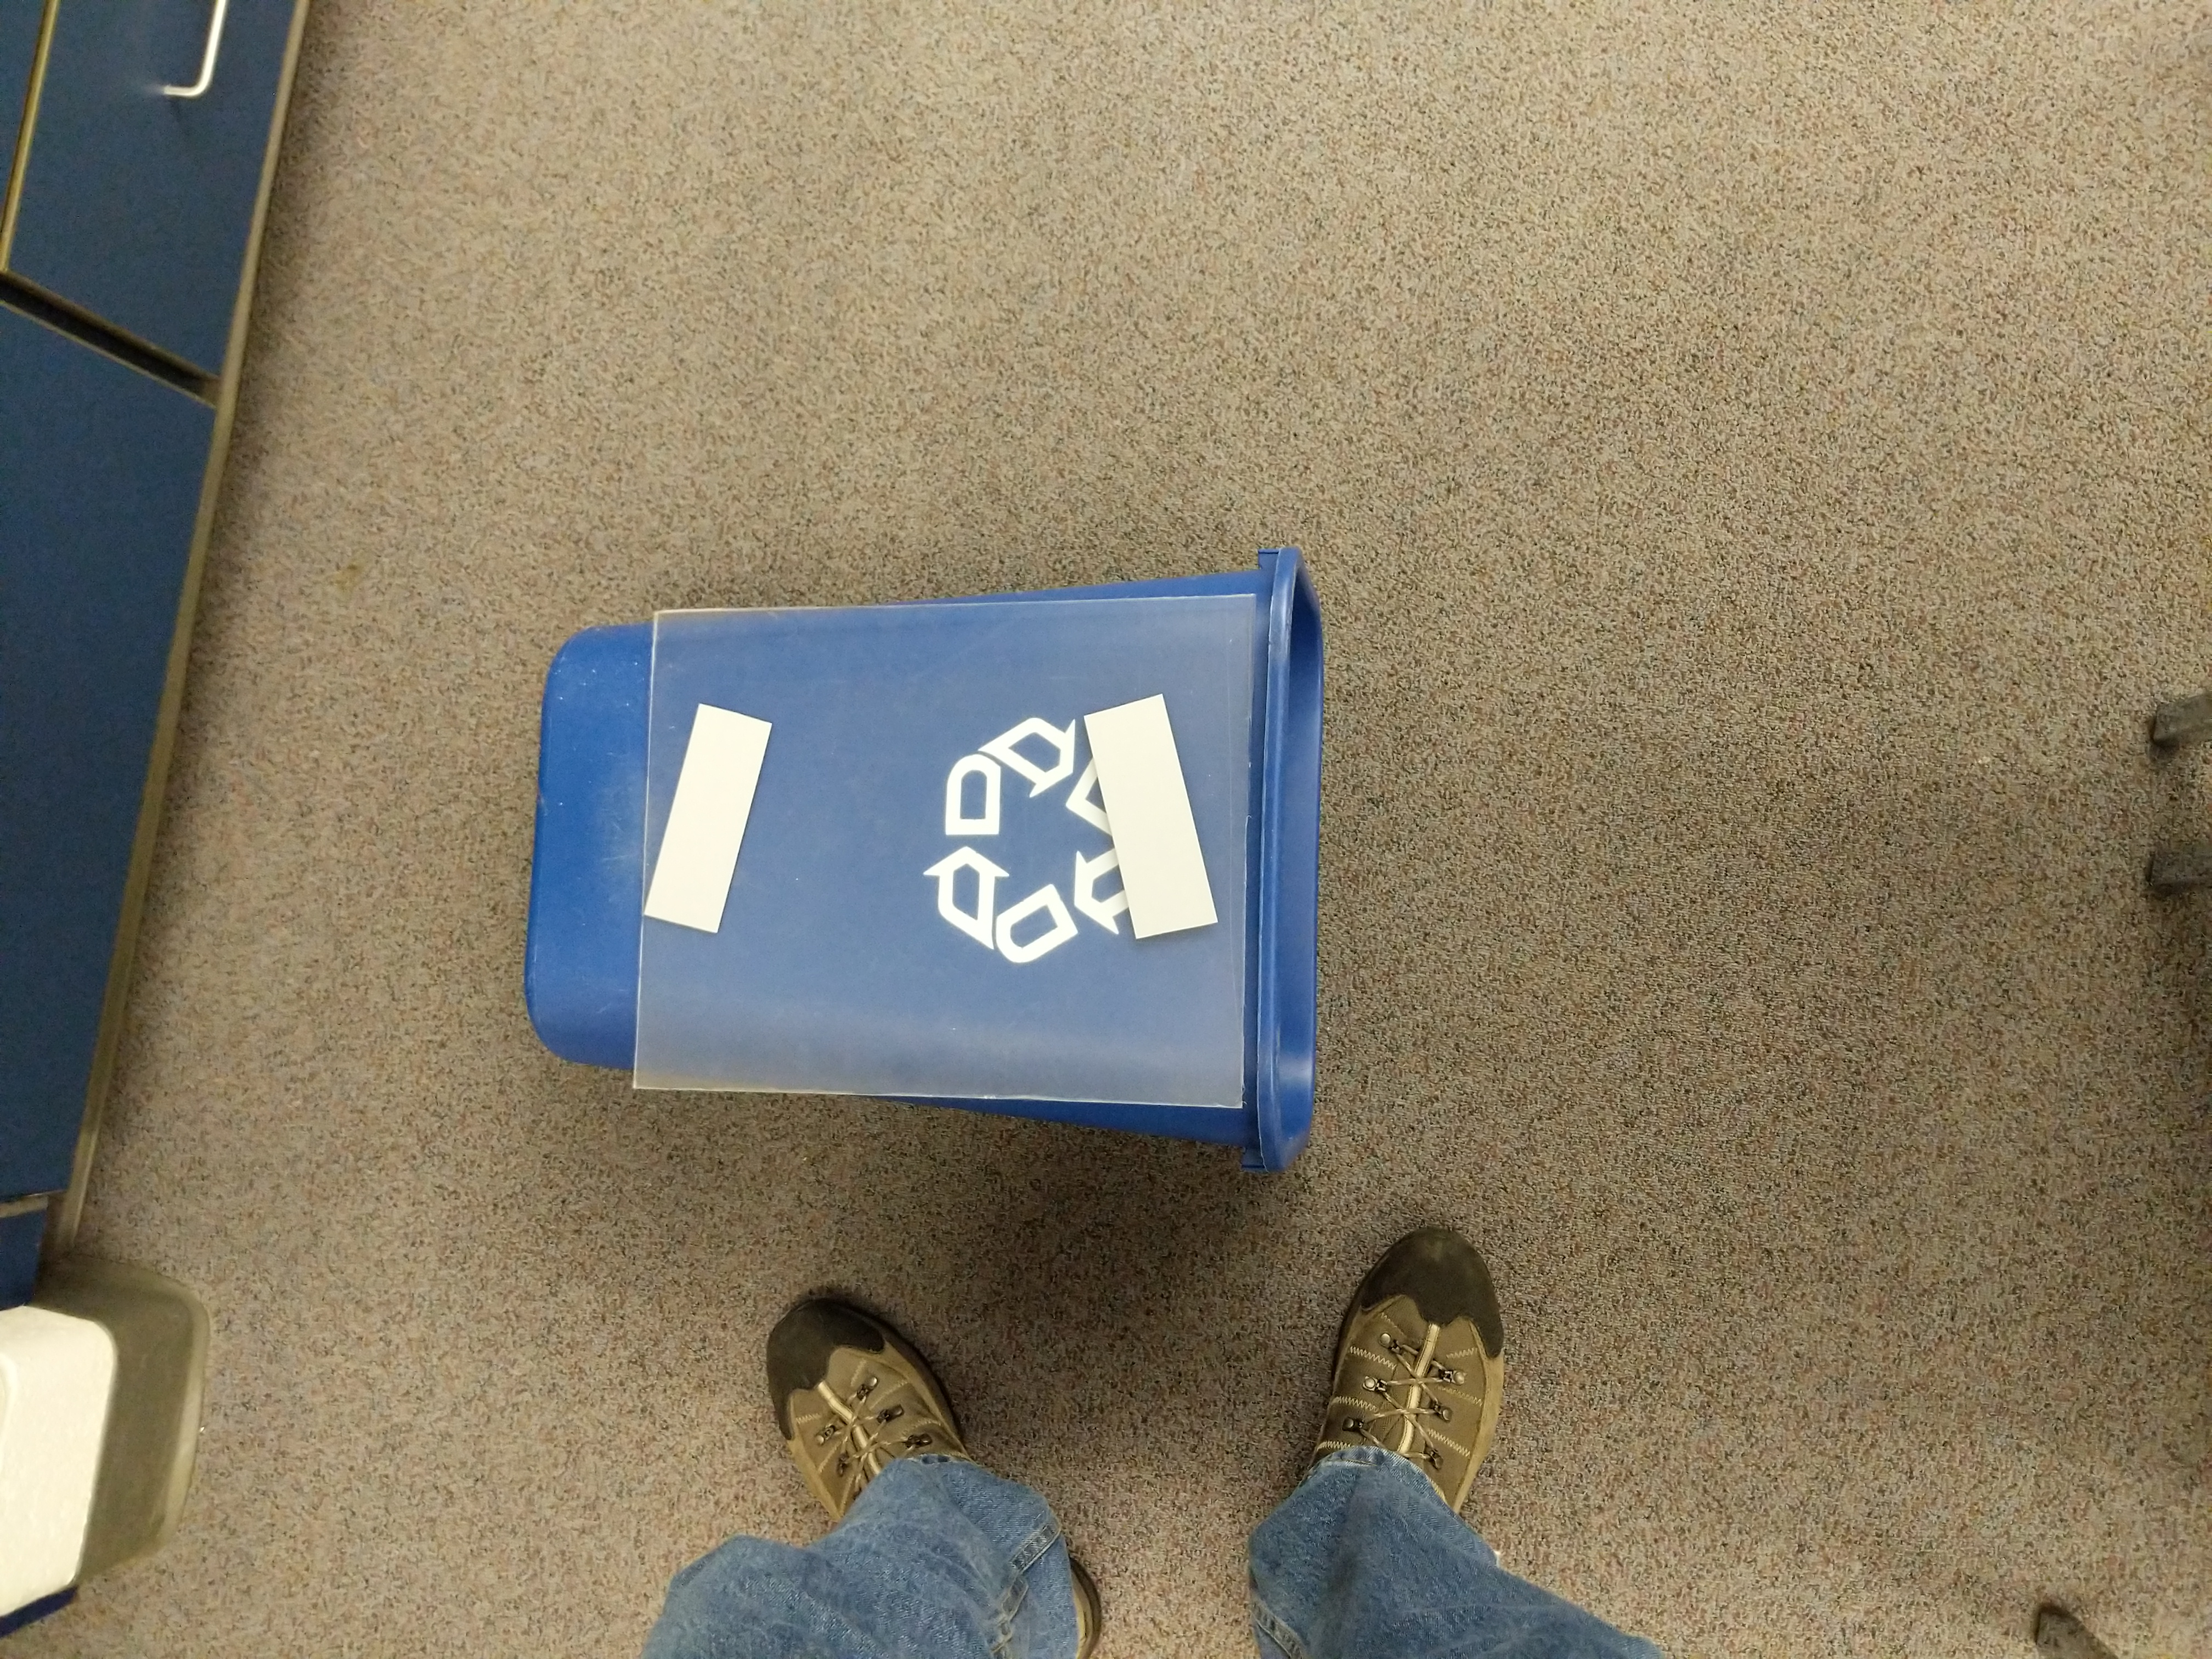vision_target: (643, 685, 1226, 957)
